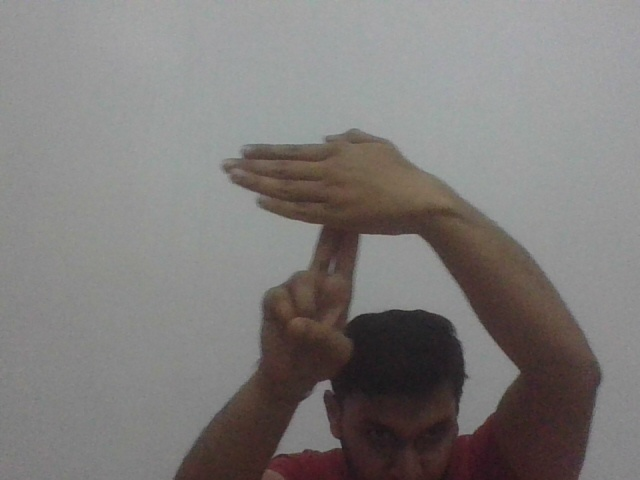N: (217, 128, 424, 273)
